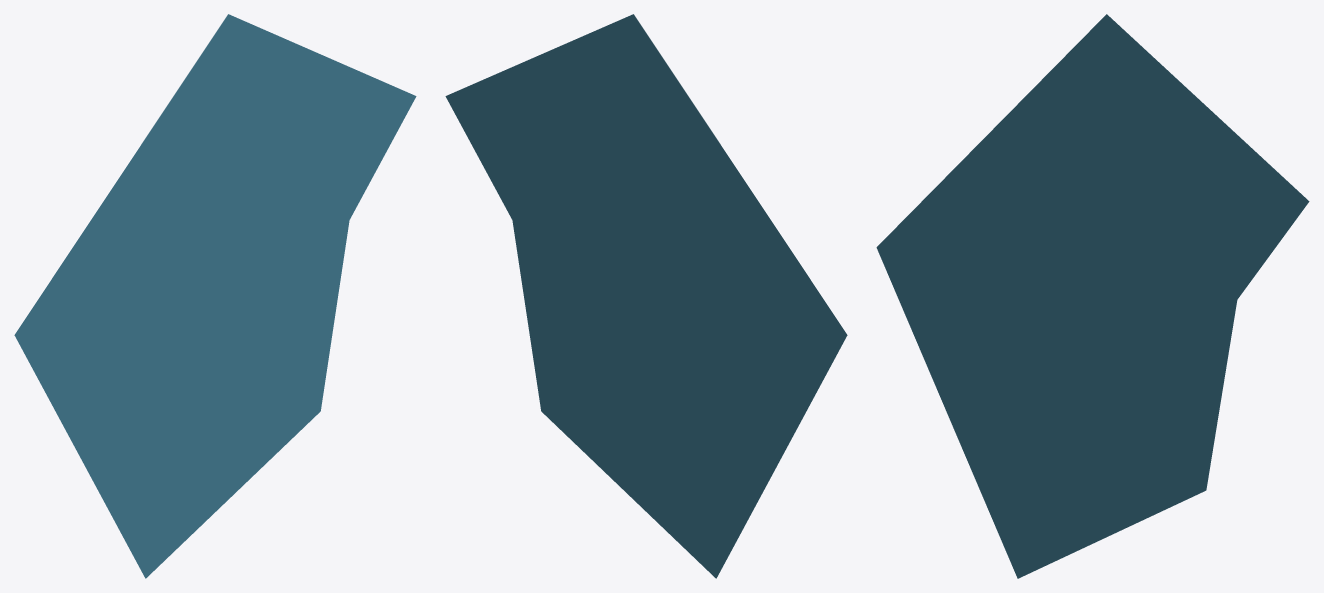
Rendered from NexusA_Cloth_3.fbx.
3 renders of one model, left to right at view 1: azimuth 30°, elevation 25°; view 2: azimuth 150°, elevation 25°; view 3: azimuth 330°, elevation 25°, orthographic. The views are drawn at different scales.
Parts seen in each view (by area): view 1: pasted__polySurface39; view 2: pasted__polySurface39; view 3: pasted__polySurface39.
Boxes of the visible parts, x1,y1,x2,y2 form: pasted__polySurface39: (14, 14, 416, 578); pasted__polySurface39: (445, 14, 847, 578); pasted__polySurface39: (876, 14, 1309, 578).
Size of the model in its own units: 37.94 by 49.13 by 5.73e-05.
